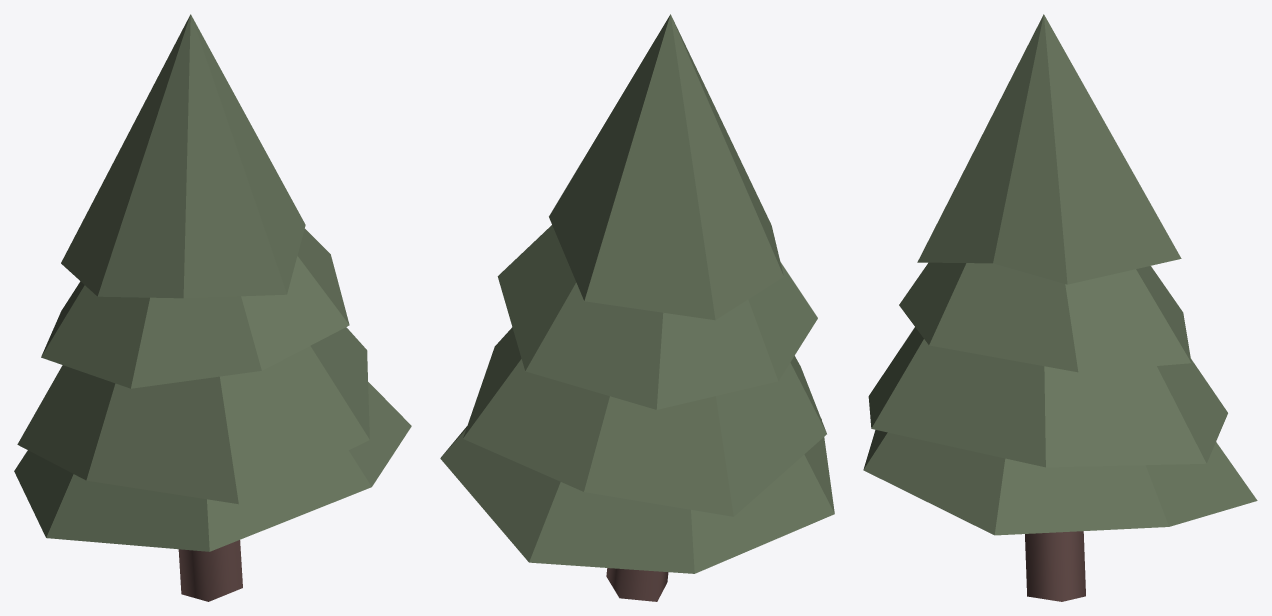
The model's file is tree-ver3.glb.
The picture shows the model from 3 angles, left to right: view 1: azimuth 30°, elevation 25°; view 2: azimuth 150°, elevation 25°; view 3: azimuth 270°, elevation 25°; orthographic projection. The views are drawn at different scales.
Visible parts, largest first — view 1: Tree-ver3_Texture-base_0; view 2: Tree-ver3_Texture-base_0; view 3: Tree-ver3_Texture-base_0.
Part boxes in pixels (x1,y1,x2,y2): Tree-ver3_Texture-base_0: (14,14,411,601); Tree-ver3_Texture-base_0: (440,14,834,601); Tree-ver3_Texture-base_0: (863,14,1257,601).
Bounding box in the file's own units: 2.7 × 4.33 × 2.7.
Materials: 1 (1 with a texture image).
